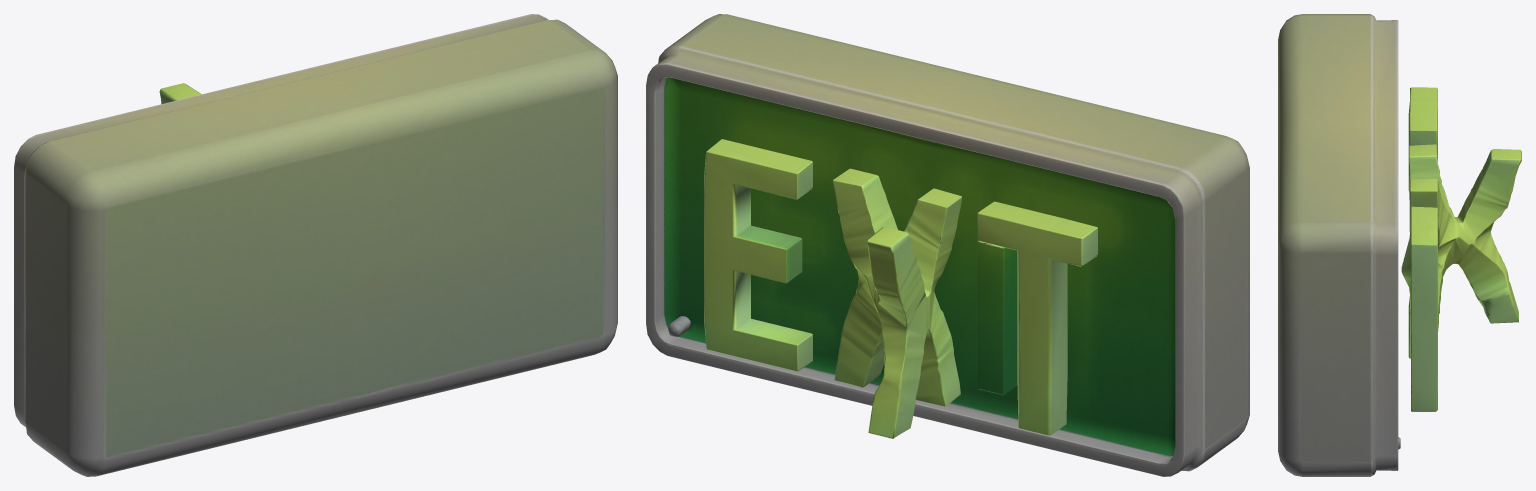
The model's file is exit_sign_hanging.glb.
The picture shows the model from 3 angles, left to right: view 1: azimuth 30°, elevation 25°; view 2: azimuth 150°, elevation 25°; view 3: azimuth 270°, elevation 25°; orthographic projection. The views are drawn at different scales.
Size of the model in its own units: 0.9428 by 0.5 by 0.4336.
Materials: 1 (1 with a texture image).
